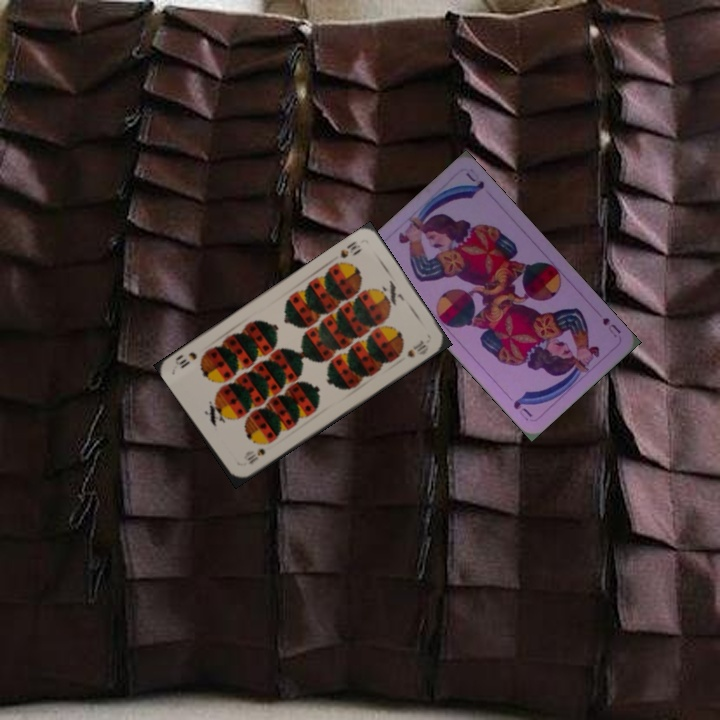S10: (336, 237, 365, 261), (243, 444, 268, 467)
SU: (598, 314, 624, 340)
